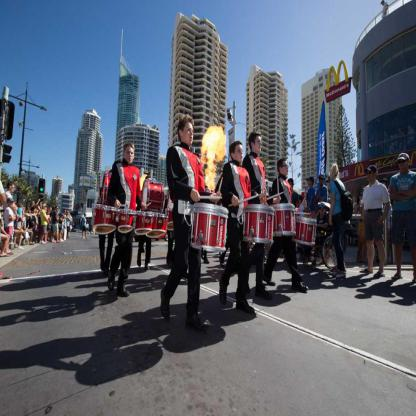face: (184, 121, 194, 147), (255, 134, 263, 154), (127, 146, 135, 164), (236, 143, 243, 162), (283, 161, 290, 177), (399, 160, 408, 170), (369, 171, 375, 183), (147, 178, 152, 189), (383, 181, 388, 190), (12, 183, 16, 193), (320, 178, 325, 186), (321, 208, 326, 216), (289, 181, 292, 190), (361, 193, 364, 201), (11, 201, 14, 208), (309, 179, 312, 186), (35, 209, 38, 214), (299, 199, 302, 204), (57, 206, 59, 211), (40, 206, 42, 211), (34, 201, 36, 205), (385, 131, 387, 135), (399, 128, 401, 132), (410, 125, 412, 129), (46, 205, 47, 210), (65, 209, 66, 214), (63, 215, 64, 218), (68, 212, 69, 215), (86, 214, 87, 216)
